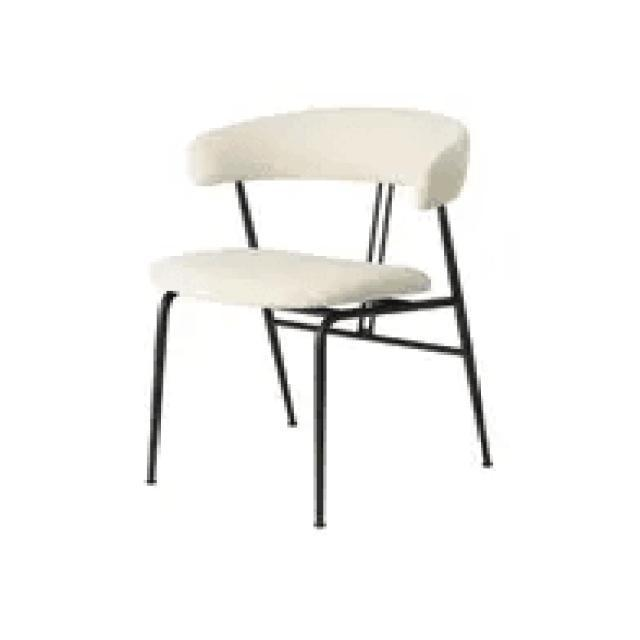chair: (140, 100, 494, 530), (145, 102, 480, 306)
